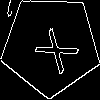X: (25, 20, 80, 75)
